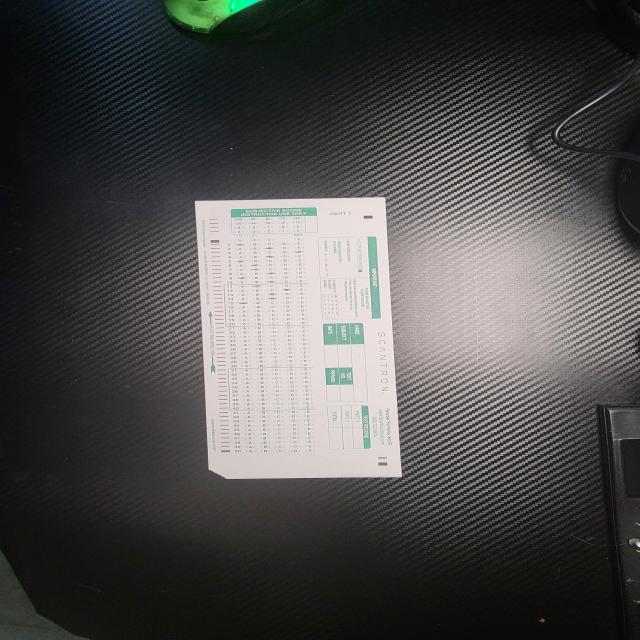scantron: (195, 197, 402, 479)
